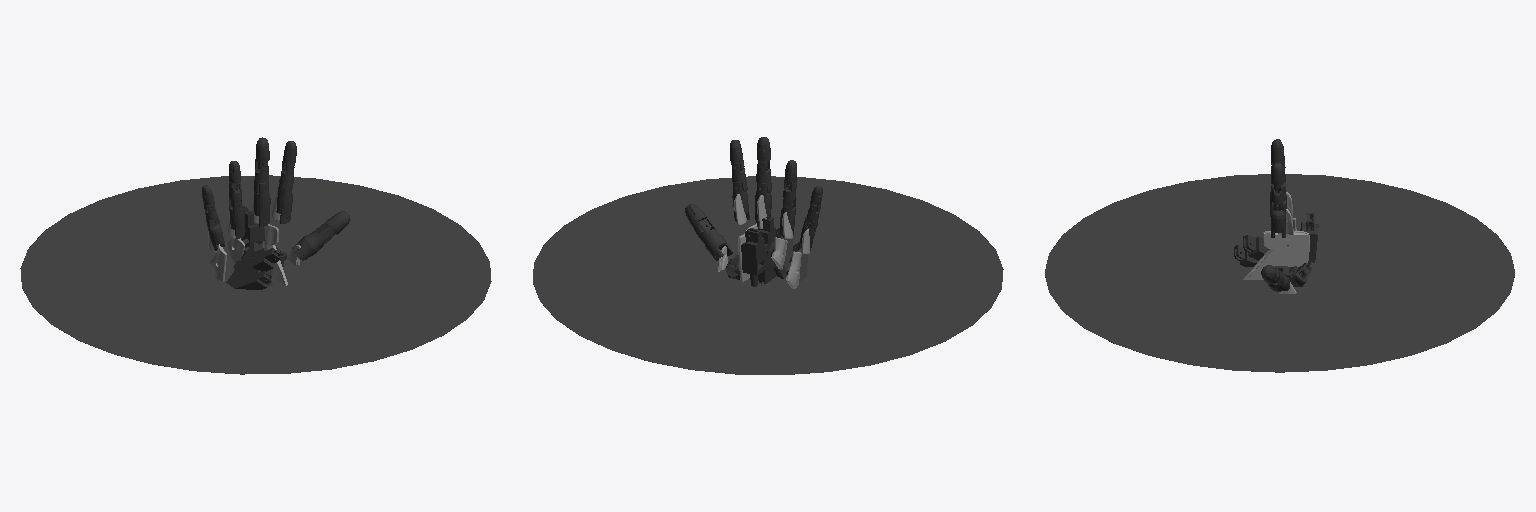
URDF robot description (inmoov_hand):
<?xml version="1.0" ?>
<!-- =================================================================================== -->
<!-- |    This document was autogenerated by xacro from inmoov_right_hand.urdf.xacro   | -->
<!-- |    EDITING THIS FILE BY HAND IS NOT RECOMMENDED                                 | -->
<!-- =================================================================================== -->
<robot name="inmoov_hand" xmlns:xacro="http://ros.org/wiki/xacro">
  <link name="base_link">
    <visual>
      <geometry>
        <cylinder length="0.0001" radius="0.26"/>
      </geometry>
      <origin rpy="0 0 0" xyz="0 0 0.055"/>
      <material name="invisible">
        <color rgba="0.3 0.3 0.3 0"/>
      </material>
    </visual>
  </link>
  <link name="r_hand_link">
    <visual>
      <geometry>
        <mesh filename="package://inmoov_meshes/meshes/r_hand.stl" scale="0.001 0.001 0.001"/>
      </geometry>
      <origin rpy="0 0 0" xyz="0 0 0"/>
      <material name="cframe">
        <color rgba="0.25 0.25 0.25 1"/>
      </material>
    </visual>
  </link>
  <link name="r_thumb1_link">
    <visual>
      <geometry>
        <mesh filename="package://inmoov_meshes/meshes/r_thumb5_1.stl" scale="0.001 0.001 0.001"/>
      </geometry>
      <origin rpy="3.1415 0 0" xyz="0 0 0"/>
      <material name="cframe">
        <color rgba="0.25 0.25 0.25 1"/>
      </material>
    </visual>
  </link>
  <link name="r_thumb2_link">
    <visual>
      <geometry>
        <mesh filename="package://inmoov_meshes/meshes/thumb5_2.stl" scale="0.001 0.001 0.001"/>
      </geometry>
      <origin rpy="0 0 3.1415" xyz="0 0 0"/>
      <material name="cframe">
        <color rgba="0.25 0.25 0.25 1"/>
      </material>
    </visual>
  </link>
  <link name="r_thumb3_link">
    <visual>
      <geometry>
        <mesh filename="package://inmoov_meshes/meshes/thumb5_3.stl" scale="0.001 0.001 0.001"/>
      </geometry>
      <origin rpy="0 0 3.1415" xyz="0 0 0"/>
      <material name="cframe">
        <color rgba="0.25 0.25 0.25 1"/>
      </material>
    </visual>
  </link>
  <link name="r_index1_link">
    <visual>
      <geometry>
        <mesh filename="package://inmoov_meshes/meshes/index3_1.stl" scale="0.001 0.001 0.001"/>
      </geometry>
      <origin rpy="0 0 3.1415" xyz="0 0 0"/>
      <material name="cframe">
        <color rgba="0.25 0.25 0.25 1"/>
      </material>
    </visual>
  </link>
  <link name="r_index2_link">
    <visual>
      <geometry>
        <mesh filename="package://inmoov_meshes/meshes/index3_2.stl" scale="0.001 0.001 0.001"/>
      </geometry>
      <origin rpy="0 0 3.1415" xyz="0 0 0"/>
      <material name="cframe">
        <color rgba="0.25 0.25 0.25 1"/>
      </material>
    </visual>
  </link>
  <link name="r_index3_link">
    <visual>
      <geometry>
        <mesh filename="package://inmoov_meshes/meshes/index3_3.stl" scale="0.001 0.001 0.001"/>
      </geometry>
      <origin rpy="0 0 3.1415" xyz="0 0 0"/>
      <material name="cframe">
        <color rgba="0.25 0.25 0.25 1"/>
      </material>
    </visual>
  </link>
  <link name="r_middle1_link">
    <visual>
      <geometry>
        <mesh filename="package://inmoov_meshes/meshes/middle3_1.stl" scale="0.001 0.001 0.001"/>
      </geometry>
      <origin rpy="0 0 3.1415" xyz="0 0 0"/>
      <material name="cframe">
        <color rgba="0.25 0.25 0.25 1"/>
      </material>
    </visual>
  </link>
  <link name="r_middle2_link">
    <visual>
      <geometry>
        <mesh filename="package://inmoov_meshes/meshes/middle3_2.stl" scale="0.001 0.001 0.001"/>
      </geometry>
      <origin rpy="0 0 3.1415" xyz="0 0 0"/>
      <material name="cframe">
        <color rgba="0.25 0.25 0.25 1"/>
      </material>
    </visual>
  </link>
  <link name="r_middle3_link">
    <visual>
      <geometry>
        <mesh filename="package://inmoov_meshes/meshes/middle3_3.stl" scale="0.001 0.001 0.001"/>
      </geometry>
      <origin rpy="0 0 3.1415" xyz="0 0 0"/>
      <material name="cframe">
        <color rgba="0.25 0.25 0.25 1"/>
      </material>
    </visual>
  </link>
  <link name="r_ring1_link">
    <visual>
      <geometry>
        <mesh filename="package://inmoov_meshes/meshes/r_ring3_1.stl" scale="0.001 0.001 0.001"/>
      </geometry>
      <origin rpy="0 0 3.1415" xyz="0 0 0"/>
      <material name="cframe">
        <color rgba="0.25 0.25 0.25 1"/>
      </material>
    </visual>
  </link>
  <link name="r_ring2_link">
    <visual>
      <geometry>
        <mesh filename="package://inmoov_meshes/meshes/ring3_2.stl" scale="0.001 0.001 0.001"/>
      </geometry>
      <origin rpy="0 0 3.1415" xyz="0 0 0"/>
      <material name="cframe">
        <color rgba="0.25 0.25 0.25 1"/>
      </material>
    </visual>
  </link>
  <link name="r_ring3_link">
    <visual>
      <geometry>
        <mesh filename="package://inmoov_meshes/meshes/ring3_3.stl" scale="0.001 0.001 0.001"/>
      </geometry>
      <origin rpy="0 0 3.1415" xyz="0 0 0"/>
      <material name="cframe">
        <color rgba="0.25 0.25 0.25 1"/>
      </material>
    </visual>
  </link>
  <link name="r_ring4_link">
    <visual>
      <geometry>
        <mesh filename="package://inmoov_meshes/meshes/ring3_4.stl" scale="0.001 0.001 0.001"/>
      </geometry>
      <origin rpy="0 0 3.1415" xyz="0 0 0"/>
      <material name="cframe">
        <color rgba="0.25 0.25 0.25 1"/>
      </material>
    </visual>
  </link>
  <link name="r_pinky1_link">
    <visual>
      <geometry>
        <mesh filename="package://inmoov_meshes/meshes/r_pinky3_1.stl" scale="0.001 0.001 0.001"/>
      </geometry>
      <origin rpy="0 0 3.1415" xyz="0 0 0"/>
      <material name="cframe">
        <color rgba="0.25 0.25 0.25 1"/>
      </material>
    </visual>
  </link>
  <link name="r_pinky2_link">
    <visual>
      <geometry>
        <mesh filename="package://inmoov_meshes/meshes/pinky3_2.stl" scale="0.001 0.001 0.001"/>
      </geometry>
      <origin rpy="0 0 3.1415" xyz="0 0 0"/>
      <material name="cframe">
        <color rgba="0.25 0.25 0.25 1"/>
      </material>
    </visual>
  </link>
  <link name="r_pinky3_link">
    <visual>
      <geometry>
        <mesh filename="package://inmoov_meshes/meshes/pinky3_3.stl" scale="0.001 0.001 0.001"/>
      </geometry>
      <origin rpy="0 0 3.1415" xyz="0 0 0"/>
      <material name="cframe">
        <color rgba="0.25 0.25 0.25 1"/>
      </material>
    </visual>
  </link>
  <link name="r_pinky4_link">
    <visual>
      <geometry>
        <mesh filename="package://inmoov_meshes/meshes/pinky3_4.stl" scale="0.001 0.001 0.001"/>
      </geometry>
      <origin rpy="0 0 3.1415" xyz="0 0 0"/>
      <material name="cframe">
        <color rgba="0.25 0.25 0.25 1"/>
      </material>
    </visual>
  </link>
  <joint name="r_thumb1_joint" type="revolute">
    <axis xyz="0 0 1"/>
    <limit effort="1000.0" lower="0" upper="1.57" velocity="0.5"/>
    <origin rpy="3.1415 0.1 0" xyz="-0.029 0 -0.0577"/>
    <mimic joint="r_thumb" multiplier="-0.75" offset="0"/>
    <parent link="r_hand_link"/>
    <child link="r_thumb1_link"/>
  </joint>
  <joint name="r_thumb_joint" type="revolute">
    <axis xyz="1 0 0"/>
    <limit effort="1000.0" lower="0" upper="1.5" velocity="0.5"/>
    <origin rpy="0 2.3 -0.3" xyz="-0.02725 -0.0006 0.014"/>
    <parent link="r_thumb1_link"/>
    <child link="r_thumb2_link"/>
  </joint>
  <joint name="r_thumb3_joint" type="revolute">
    <axis xyz="1 0 0"/>
    <limit effort="1000.0" lower="-1.57" upper="0" velocity="0.5"/>
    <origin rpy="0 0 0" xyz="0 0 -0.035"/>
    <mimic joint="r_thumb" multiplier="1" offset="0"/>
    <parent link="r_thumb2_link"/>
    <child link="r_thumb3_link"/>
  </joint>
  <joint name="r_index1_joint" type="revolute">
    <axis xyz="1 0 0"/>
    <limit effort="1000.0" lower="0" upper="1.5" velocity="0.5"/>
    <origin rpy="0 -0.1 3.1415" xyz="-0.0342 -0.0015 -0.119"/>
    <mimic joint="r_index" multiplier="1" offset="0"/>
    <parent link="r_hand_link"/>
    <child link="r_index1_link"/>
  </joint>
  <joint name="r_index_joint" type="revolute">
    <axis xyz="1 0 0"/>
    <limit effort="1000.0" lower="0" upper="1.5" velocity="0.5"/>
    <origin rpy="0 0 0" xyz="0 0.001 -0.03595"/>
    <parent link="r_index1_link"/>
    <child link="r_index2_link"/>
  </joint>
  <joint name="r_index3_joint" type="revolute">
    <axis xyz="1 0 0"/>
    <limit effort="1000.0" lower="0" upper="1.5" velocity="0.5"/>
    <origin rpy="0 0 0" xyz="0 0 -0.024"/>
    <mimic joint="r_index" multiplier="1" offset="0"/>
    <parent link="r_index2_link"/>
    <child link="r_index3_link"/>
  </joint>
  <joint name="r_middle1_joint" type="revolute">
    <axis xyz="1 0 0"/>
    <limit effort="1000.0" lower="0" upper="1.5" velocity="0.5"/>
    <origin rpy="0 0 3.1415" xyz="-0.007 -0.00175 -0.12325"/>
    <mimic joint="r_middle" multiplier="1" offset="0"/>
    <parent link="r_hand_link"/>
    <child link="r_middle1_link"/>
  </joint>
  <joint name="r_middle_joint" type="revolute">
    <axis xyz="1 0 0"/>
    <limit effort="1000.0" lower="0" upper="1.5" velocity="0.5"/>
    <origin rpy="0 0 0" xyz="0 0.000 -0.0389"/>
    <parent link="r_middle1_link"/>
    <child link="r_middle2_link"/>
  </joint>
  <joint name="r_middle3_joint" type="revolute">
    <axis xyz="1 0 0"/>
    <limit effort="1000.0" lower="-1.57" upper="0" velocity="0.5"/>
    <origin rpy="0 0 0" xyz="0 0.0005 -0.0259"/>
    <mimic joint="r_middle" multiplier="1" offset="0"/>
    <parent link="r_middle2_link"/>
    <child link="r_middle3_link"/>
  </joint>
  <joint name="r_ring1_joint" type="revolute">
    <axis xyz="0 0 1"/>
    <limit effort="1000.0" lower="-1.57" upper="0" velocity="0.5"/>
    <origin rpy="0 -0.7 3.1415" xyz="0.00705 0 -0.0794"/>
    <mimic joint="r_ring" multiplier="-0.1" offset="0"/>
    <parent link="r_hand_link"/>
    <child link="r_ring1_link"/>
  </joint>
  <joint name="r_ring_joint" type="revolute">
    <axis xyz="1 0 0"/>
    <limit effort="1000.0" lower="0" upper="1.5" velocity="0.5"/>
    <origin rpy="0 0.7775 0" xyz="-0.0351 0.00126 -0.0166"/>
    <parent link="r_ring1_link"/>
    <child link="r_ring2_link"/>
  </joint>
  <joint name="r_ring3_joint" type="revolute">
    <axis xyz="1 0 0"/>
    <limit effort="1000.0" lower="-1.57" upper="0" velocity="0.5"/>
    <origin rpy="0 0 0" xyz="0 0.0005 -0.0345"/>
    <mimic joint="r_ring" multiplier="1" offset="0"/>
    <parent link="r_ring2_link"/>
    <child link="r_ring3_link"/>
  </joint>
  <joint name="r_ring4_joint" type="revolute">
    <axis xyz="1 0 0"/>
    <limit effort="1000.0" lower="-1.57" upper="0" velocity="0.5"/>
    <origin rpy="0 0 0" xyz="0 0.0004 -0.0229"/>
    <mimic joint="r_ring" multiplier="1" offset="0"/>
    <parent link="r_ring3_link"/>
    <child link="r_ring4_link"/>
  </joint>
  <joint name="r_pinky1_joint" type="revolute">
    <axis xyz="0 0 1"/>
    <limit effort="1000.0" lower="-1.57" upper="0" velocity="0.5"/>
    <origin rpy="0 -0.7 3.1415" xyz="0.027 0 -0.0555"/>
    <mimic joint="r_pinky" multiplier="-0.1" offset="0"/>
    <parent link="r_hand_link"/>
    <child link="r_pinky1_link"/>
  </joint>
  <joint name="r_pinky_joint" type="revolute">
    <axis xyz="1 0 0"/>
    <limit effort="1000.0" lower="0" upper="1.5" velocity="0.5"/>
    <origin rpy="0 0.93 0" xyz="-0.046 -0 -0.0228"/>
    <parent link="r_pinky1_link"/>
    <child link="r_pinky2_link"/>
  </joint>
  <joint name="r_pinky3_joint" type="revolute">
    <axis xyz="1 0 0"/>
    <limit effort="1000.0" lower="-1.57" upper="0" velocity="0.5"/>
    <origin rpy="0 0 0" xyz="0 0.0005 -0.031"/>
    <mimic joint="r_pinky" multiplier="1" offset="0"/>
    <parent link="r_pinky2_link"/>
    <child link="r_pinky3_link"/>
  </joint>
  <joint name="r_pinky4_joint" type="revolute">
    <axis xyz="1 0 0"/>
    <limit effort="1000.0" lower="-1.57" upper="0" velocity="0.5"/>
    <origin rpy="0 0 0" xyz="0 0.0004 -0.0208"/>
    <mimic joint="r_pinky" multiplier="1" offset="0"/>
    <parent link="r_pinky3_link"/>
    <child link="r_pinky4_link"/>
  </joint>
  <link name="r_handcover_link">
    <visual>
      <geometry>
        <mesh filename="package://inmoov_meshes/meshes/r_cover_hand.stl" scale="0.001 0.001 0.001"/>
      </geometry>
      <origin rpy="0 0 0" xyz="0 0 0"/>
      <material name="ccover">
        <color rgba="0.6 0.6 0.6 1"/>
      </material>
    </visual>
  </link>
  <link name="r_cover_handring_link">
    <visual>
      <geometry>
        <mesh filename="package://inmoov_meshes/meshes/r_cover_handring.stl" scale="0.001 0.001 0.001"/>
      </geometry>
      <origin rpy="0 0 3.1415" xyz="0 0 0"/>
      <material name="ccover">
        <color rgba="0.6 0.6 0.6 1"/>
      </material>
    </visual>
  </link>
  <link name="r_cover_handpinky_link">
    <visual>
      <geometry>
        <mesh filename="package://inmoov_meshes/meshes/r_cover_handpinky.stl" scale="0.001 0.001 0.001"/>
      </geometry>
      <origin rpy="0 0 3.1415" xyz="0 0 0"/>
      <material name="ccover">
        <color rgba="0.6 0.6 0.6 1"/>
      </material>
    </visual>
  </link>
  <link name="r_cover_thumb_link">
    <visual>
      <geometry>
        <mesh filename="package://inmoov_meshes/meshes/r_cover_thumb.stl" scale="0.001 0.001 0.001"/>
      </geometry>
      <origin rpy="3.1415 0 0" xyz="0 0 0"/>
      <material name="ccover">
        <color rgba="0.6 0.6 0.6 1"/>
      </material>
    </visual>
  </link>
  <link name="r_cover_index_link">
    <visual>
      <geometry>
        <mesh filename="package://inmoov_meshes/meshes/r_cover_index.stl" scale="0.001 0.001 0.001"/>
      </geometry>
      <origin rpy="0 0 3.1415" xyz="0 0 0"/>
      <material name="ccover">
        <color rgba="0.6 0.6 0.6 1"/>
      </material>
    </visual>
  </link>
  <link name="r_cover_middle_link">
    <visual>
      <geometry>
        <mesh filename="package://inmoov_meshes/meshes/r_cover_middle.stl" scale="0.001 0.001 0.001"/>
      </geometry>
      <origin rpy="0 0 3.1415" xyz="0 0 0"/>
      <material name="ccover">
        <color rgba="0.6 0.6 0.6 1"/>
      </material>
    </visual>
  </link>
  <link name="r_cover_ring_link">
    <visual>
      <geometry>
        <mesh filename="package://inmoov_meshes/meshes/r_cover_ring.stl" scale="0.001 0.001 0.001"/>
      </geometry>
      <origin rpy="0 0 3.1415" xyz="0 0 0"/>
      <material name="ccover">
        <color rgba="0.6 0.6 0.6 1"/>
      </material>
    </visual>
  </link>
  <link name="r_cover_pinky_link">
    <visual>
      <geometry>
        <mesh filename="package://inmoov_meshes/meshes/r_cover_pinky.stl" scale="0.001 0.001 0.001"/>
      </geometry>
      <origin rpy="0 0 3.1415" xyz="0 0 0"/>
      <material name="ccover">
        <color rgba="0.6 0.6 0.6 1"/>
      </material>
    </visual>
  </link>
  <joint name="r_handcover_joint" type="fixed">
    <origin rpy="0 0 0" xyz="-0.0192 0.009 -0.0977"/>
    <parent link="r_hand_link"/>
    <child link="r_handcover_link"/>
  </joint>
  <joint name="r_cover_handring_joint" type="fixed">
    <origin rpy="0 0.7 0" xyz="-0.015 -0.009 -0.0008"/>
    <parent link="r_ring1_link"/>
    <child link="r_cover_handring_link"/>
  </joint>
  <joint name="r_cover_handpinky_joint" type="fixed">
    <origin rpy="0 0.7 0" xyz="-0.0205 -0.01 -0.0069"/>
    <parent link="r_pinky1_link"/>
    <child link="r_cover_handpinky_link"/>
  </joint>
  <joint name="r_cover_thumb_joint" type="fixed">
    <origin rpy="0 3.1 0" xyz="-0.02125 -0.01 -0.0047"/>
    <parent link="r_thumb1_link"/>
    <child link="r_cover_thumb_link"/>
  </joint>
  <joint name="r_cover_index_joint" type="fixed">
    <origin rpy="0.05 0 0" xyz="0 -0.0071 -0.012"/>
    <parent link="r_index1_link"/>
    <child link="r_cover_index_link"/>
  </joint>
  <joint name="r_cover_middle_joint" type="fixed">
    <origin rpy="-0.05 0 0" xyz="0 -0.0071 -0.012"/>
    <parent link="r_middle1_link"/>
    <child link="r_cover_middle_link"/>
  </joint>
  <joint name="r_cover_ring_joint" type="fixed">
    <origin rpy="-0.05 -0.1 0" xyz="0 -0.005 -0.011"/>
    <parent link="r_ring2_link"/>
    <child link="r_cover_ring_link"/>
  </joint>
  <joint name="r_cover_pinky_joint" type="fixed">
    <origin rpy="-0.05 -0.1 0" xyz="0 -0.005 -0.0105"/>
    <parent link="r_pinky2_link"/>
    <child link="r_cover_pinky_link"/>
  </joint>
  <joint name="base_to_hand_joint" type="revolute">
    <axis xyz="0 0 1"/>
    <limit effort="1000.0" lower="-3.14" upper="0" velocity="0.5"/>
    <origin rpy="0 3.1415 0" xyz="0 0 0"/>
    <parent link="base_link"/>
    <child link="r_hand_link"/>
  </joint>
</robot>

--- Facts derived from the render (not from the file) ---
Views: 3 orthographic renders of the robot side by side, from view 1: azimuth 30°, elevation 25°; view 2: azimuth 150°, elevation 25°; view 3: azimuth 270°, elevation 25°.
Robot: inmoov_hand — 27 links, 26 joints (18 revolute, 8 fixed); root link base_link; default pose: all joints at 0.
Visible links, largest first — view 1: base_link, r_ring1_link, r_pinky1_link, r_thumb2_link, r_hand_link, r_handcover_link, r_middle1_link; view 2: base_link, r_hand_link, r_thumb2_link; view 3: base_link, r_handcover_link.
Boxes of the visible links, left/top/right/bottom form: base_link: left=20, top=175, right=491, bottom=374; r_ring1_link: left=236, top=242, right=279, bottom=271; r_pinky1_link: left=226, top=264, right=271, bottom=289; r_thumb2_link: left=292, top=222, right=332, bottom=260; r_hand_link: left=241, top=205, right=272, bottom=285; r_handcover_link: left=259, top=224, right=287, bottom=285; r_middle1_link: left=254, top=179, right=270, bottom=226; base_link: left=533, top=176, right=1003, bottom=374; r_hand_link: left=741, top=216, right=775, bottom=286; r_thumb2_link: left=694, top=218, right=732, bottom=260; base_link: left=1045, top=174, right=1514, bottom=372; r_handcover_link: left=1243, top=231, right=1309, bottom=279.
Bounding box of the posed robot: 0.52 × 0.52 × 0.2205 m (x, y, z).
26 mesh visuals loaded from 26 distinct referenced files (26 binary STL).